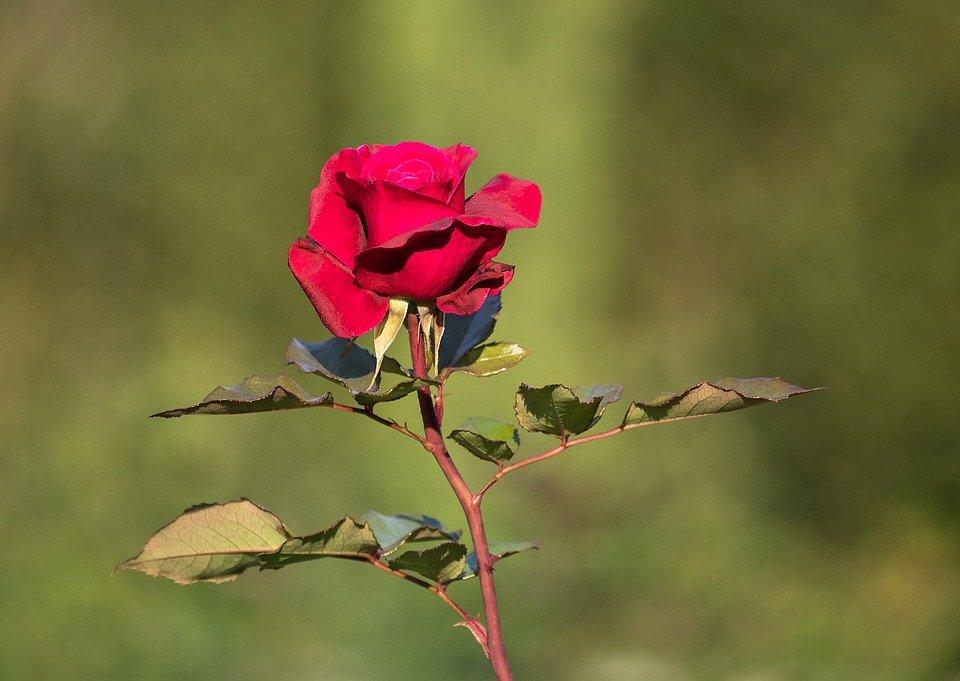Rose: (272, 110, 560, 353)
